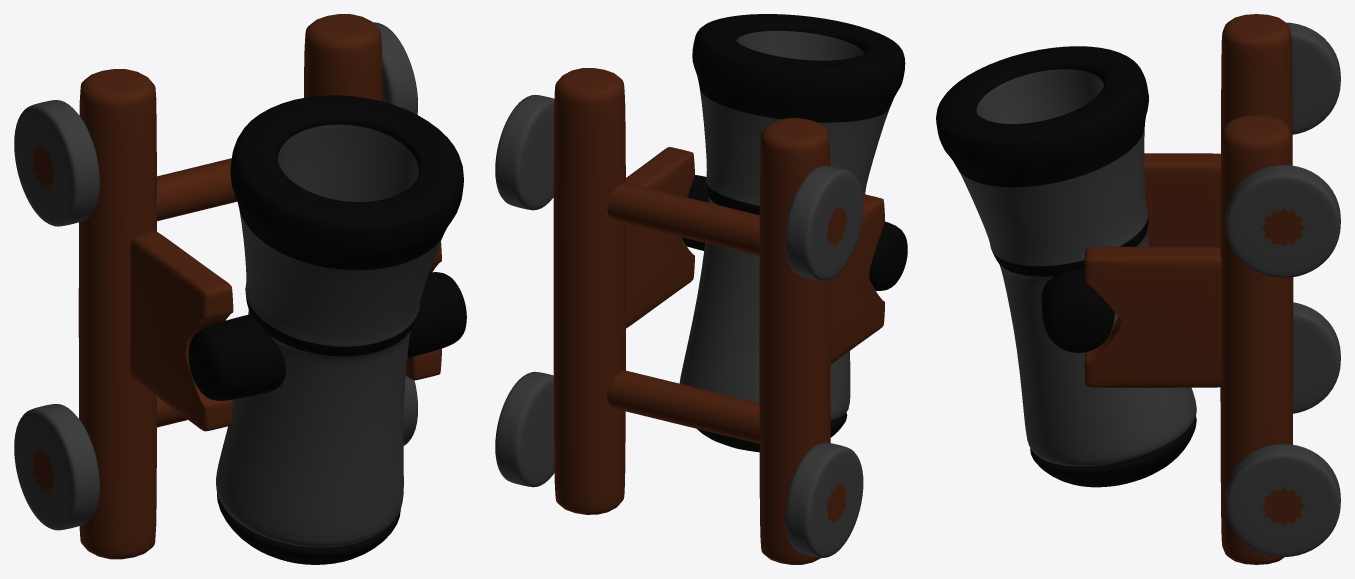
The model's file is cannon (4).fbx.
3 renders of one model, left to right at view 1: azimuth 30°, elevation 25°; view 2: azimuth 150°, elevation 25°; view 3: azimuth 270°, elevation 25°, orthographic. The views are drawn at different scales.
Visible parts, largest first — view 1: Cylinder.003, Cylinder.002; view 2: Cylinder.002, Cylinder.003; view 3: Cylinder.002, Cylinder.003.
Part boxes in pixels (x1,y1,x2,y2): Cylinder.003: (188,95,466,564); Cylinder.002: (14,14,441,559); Cylinder.002: (495,68,884,564); Cylinder.003: (679,14,907,452); Cylinder.002: (1084,14,1340,564); Cylinder.003: (936,46,1196,487).
Size of the model in its own units: 0.925 by 1.2 by 1.02.
